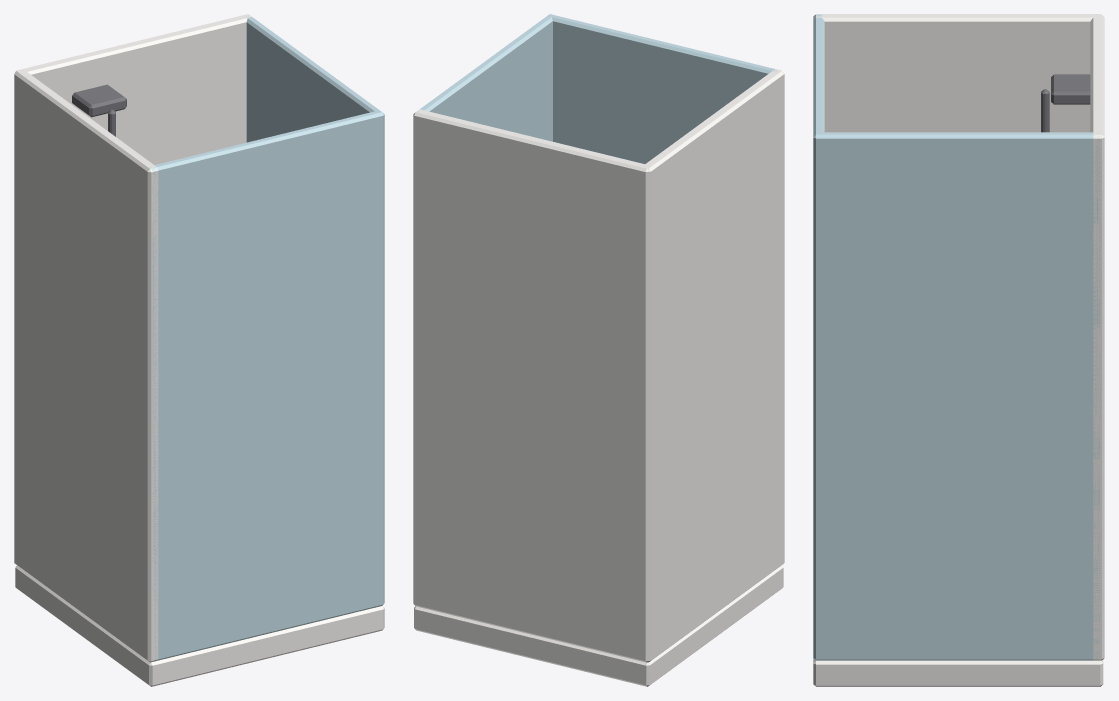
File: SM_Shower.fbx
The picture shows the model from 3 angles, left to right: view 1: azimuth 30°, elevation 25°; view 2: azimuth 150°, elevation 25°; view 3: azimuth 270°, elevation 25°; orthographic projection. The views are drawn at different scales.
Visible parts, largest first — view 1: Shower; view 2: Shower; view 3: Shower.
Boxes of the visible parts, left/top/right/bottom form: Shower: left=14, top=14, right=384, bottom=686; Shower: left=413, top=14, right=784, bottom=686; Shower: left=813, top=14, right=1104, bottom=686.
Bounding box in the file's own units: 100 × 210 × 100.
